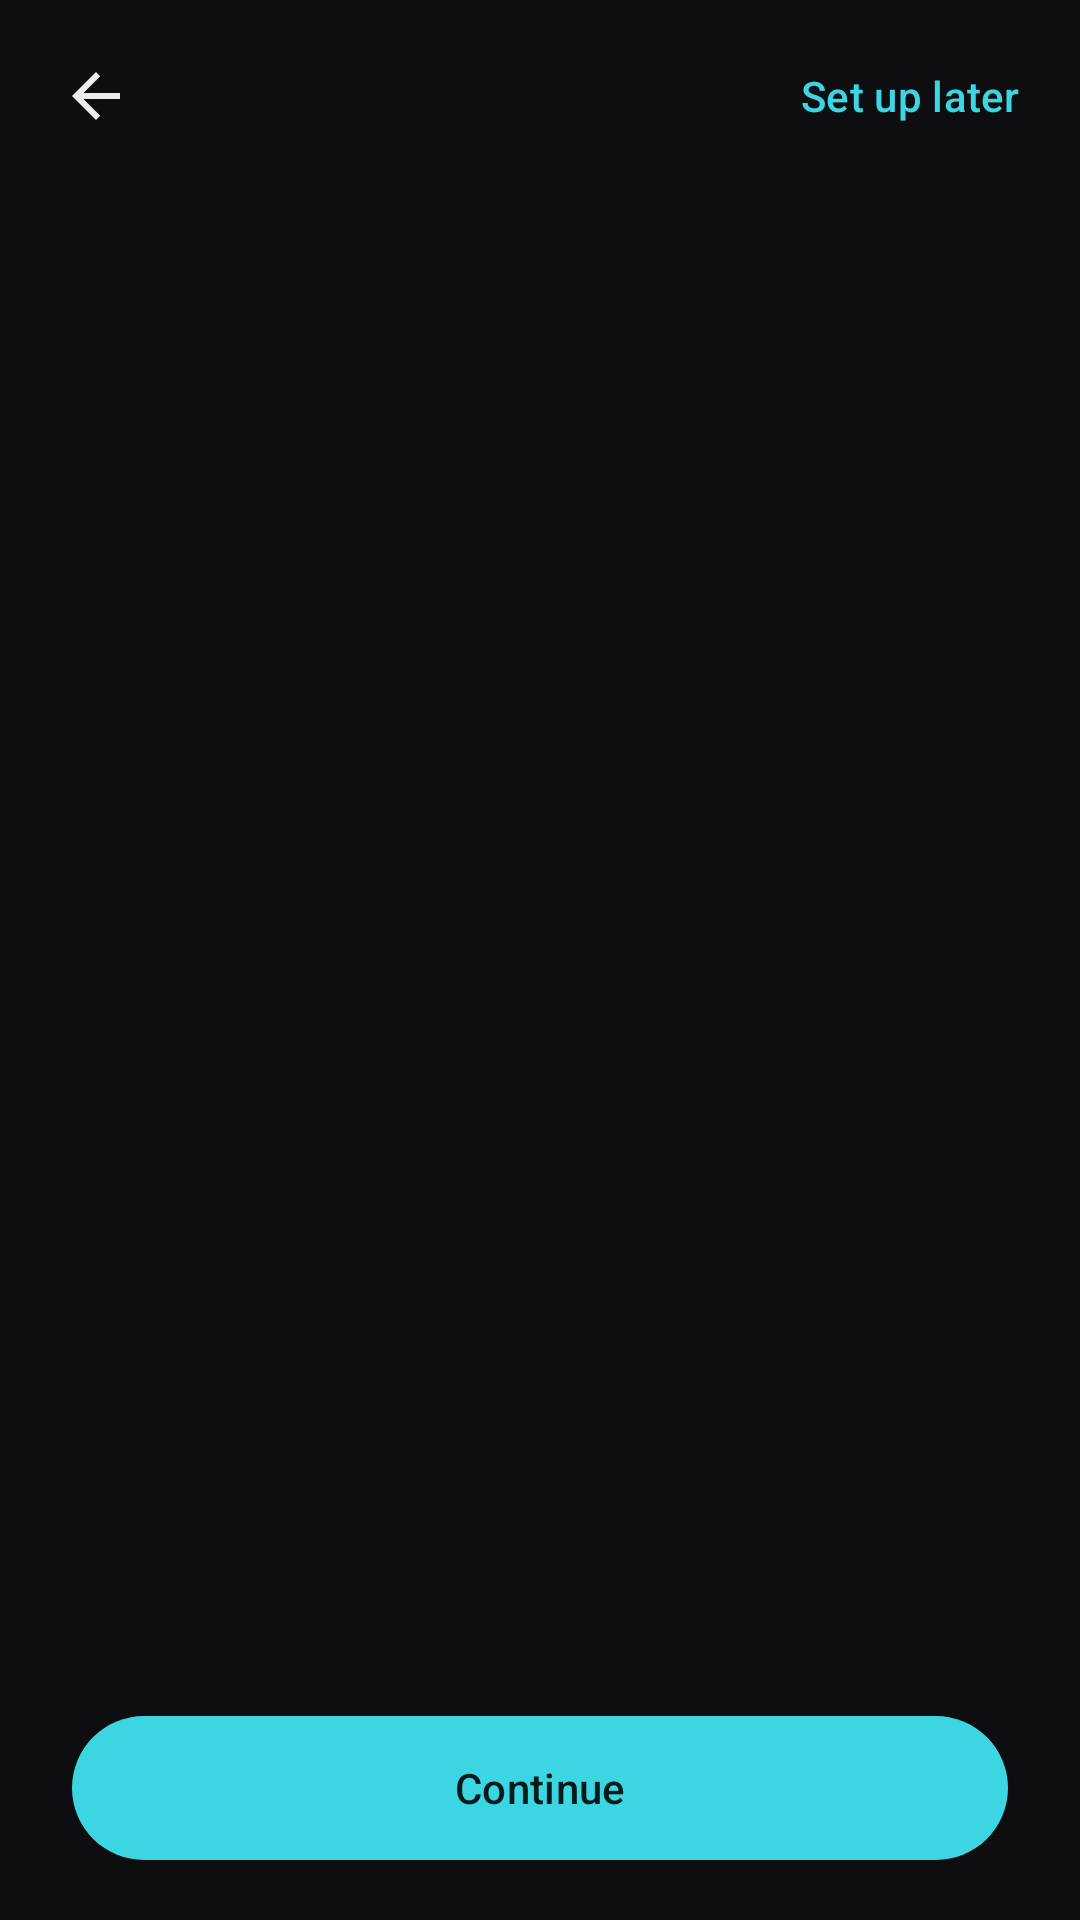

Named icons in this screenshot (1080×1920) and their bounding boxes, (x1, y1, x2, y2):
Back: (72, 72, 120, 120)
